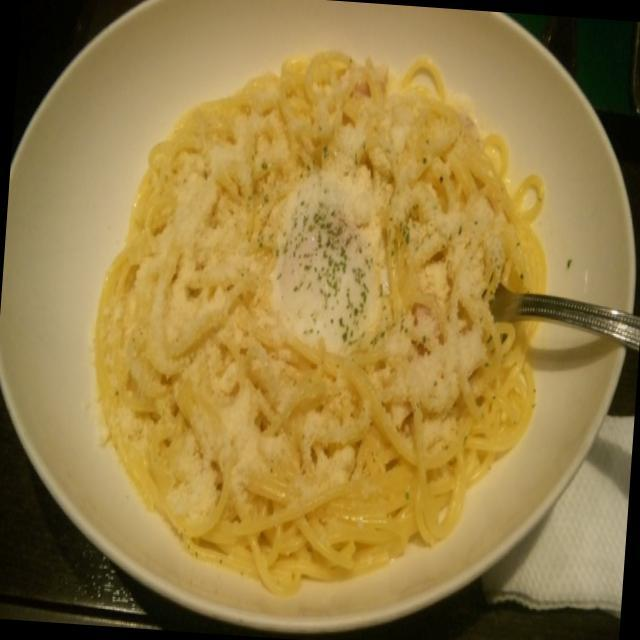Pasta: (80, 11, 556, 594)
